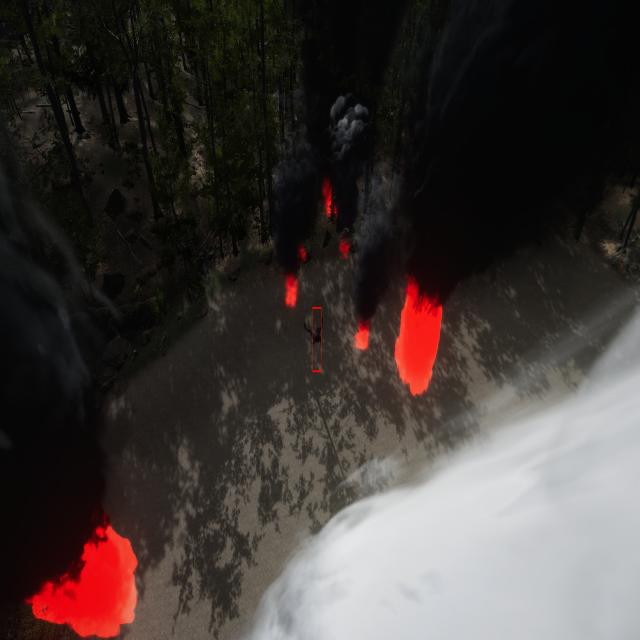Human: (303, 310, 333, 357)
